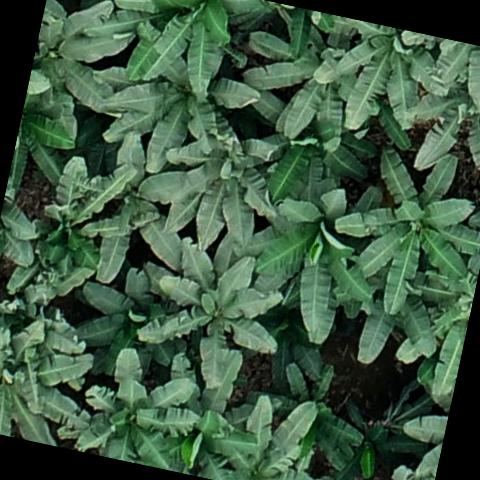Banana-plant: (327, 136, 480, 324), (230, 174, 388, 354), (130, 230, 292, 394), (95, 28, 264, 184), (126, 112, 284, 260), (3, 145, 137, 310), (228, 15, 379, 150), (235, 86, 386, 219), (316, 15, 457, 144), (73, 336, 201, 472), (97, 0, 267, 99), (148, 340, 263, 480), (66, 262, 186, 384), (24, 0, 138, 117), (0, 309, 95, 449), (405, 234, 480, 400), (266, 360, 374, 468), (203, 386, 321, 480), (349, 258, 446, 370), (398, 76, 480, 186), (330, 394, 431, 480)
